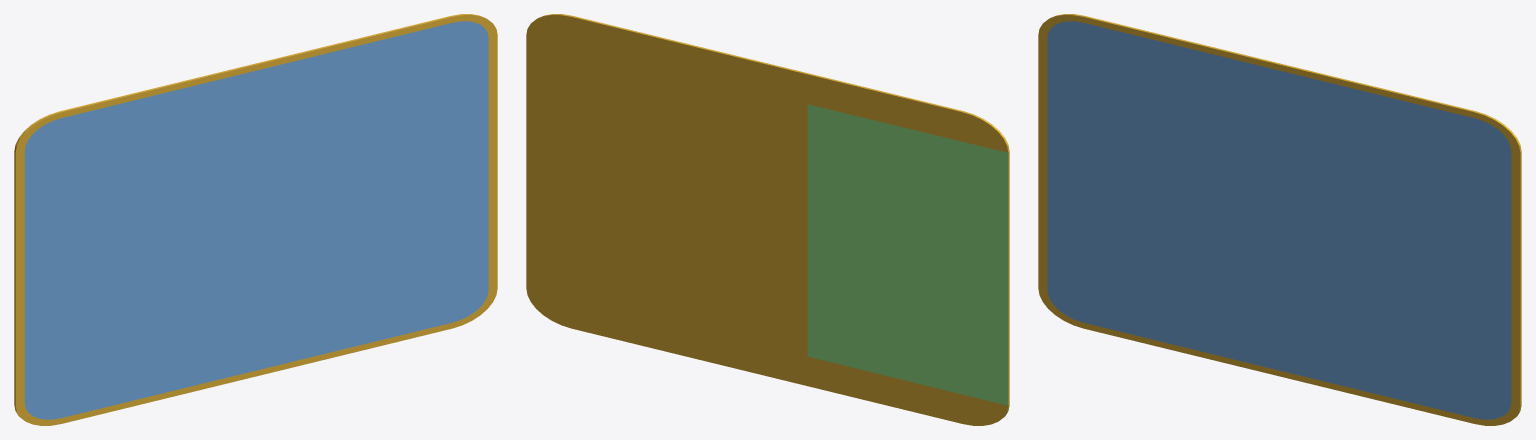
Rendered from NFTCard.fbx.
3 views of the same model, side by side, from view 1: azimuth 30°, elevation 25°; view 2: azimuth 150°, elevation 25°; view 3: azimuth 330°, elevation 25° (orthographic).
Parts seen in each view (by area): view 1: Cube; view 2: Cube; view 3: Cube.
Part boxes in pixels (box(x1,y1,x2,y2)): Cube: box(14, 14, 497, 425); Cube: box(526, 14, 1009, 425); Cube: box(1038, 14, 1521, 425).
Bounding box in the file's own units: 400 × 247 × 2.
